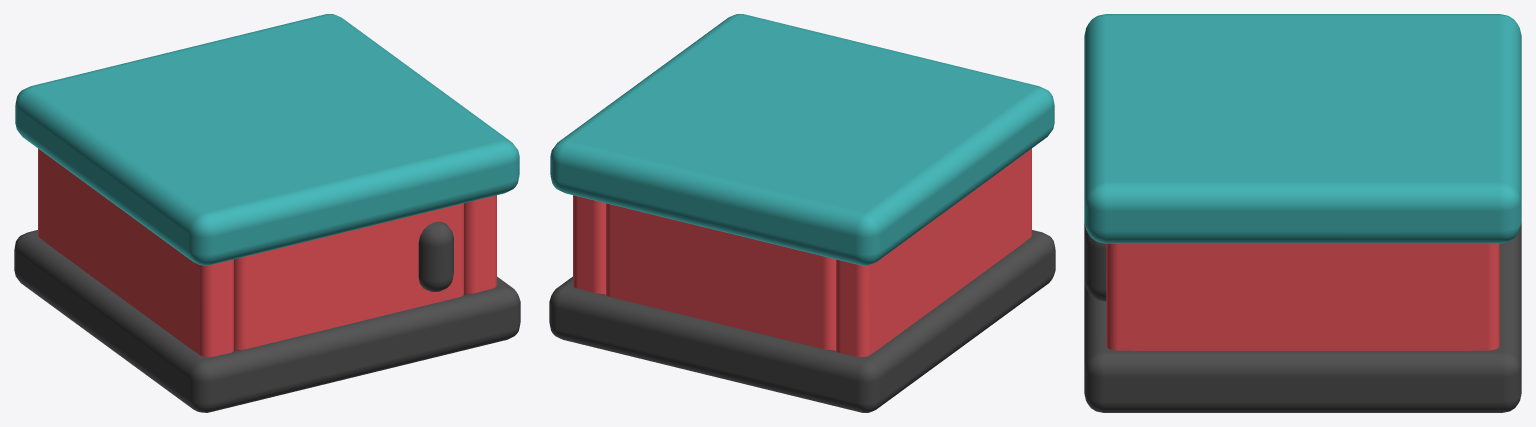
File: EmptyStation.fbx
3 renders of one model, left to right at view 1: azimuth 30°, elevation 25°; view 2: azimuth 150°, elevation 25°; view 3: azimuth 270°, elevation 25°, orthographic. The views are drawn at different scales.
Visible parts, largest first — view 1: EmptyStation; view 2: EmptyStation; view 3: EmptyStation.
Boxes of the visible parts, x1=… form: EmptyStation: x1=14, y1=14, x2=520, y2=412; EmptyStation: x1=549, y1=14, x2=1055, y2=412; EmptyStation: x1=1084, y1=14, x2=1521, y2=412.
Bounding box in the file's own units: 200 × 115 × 200.
